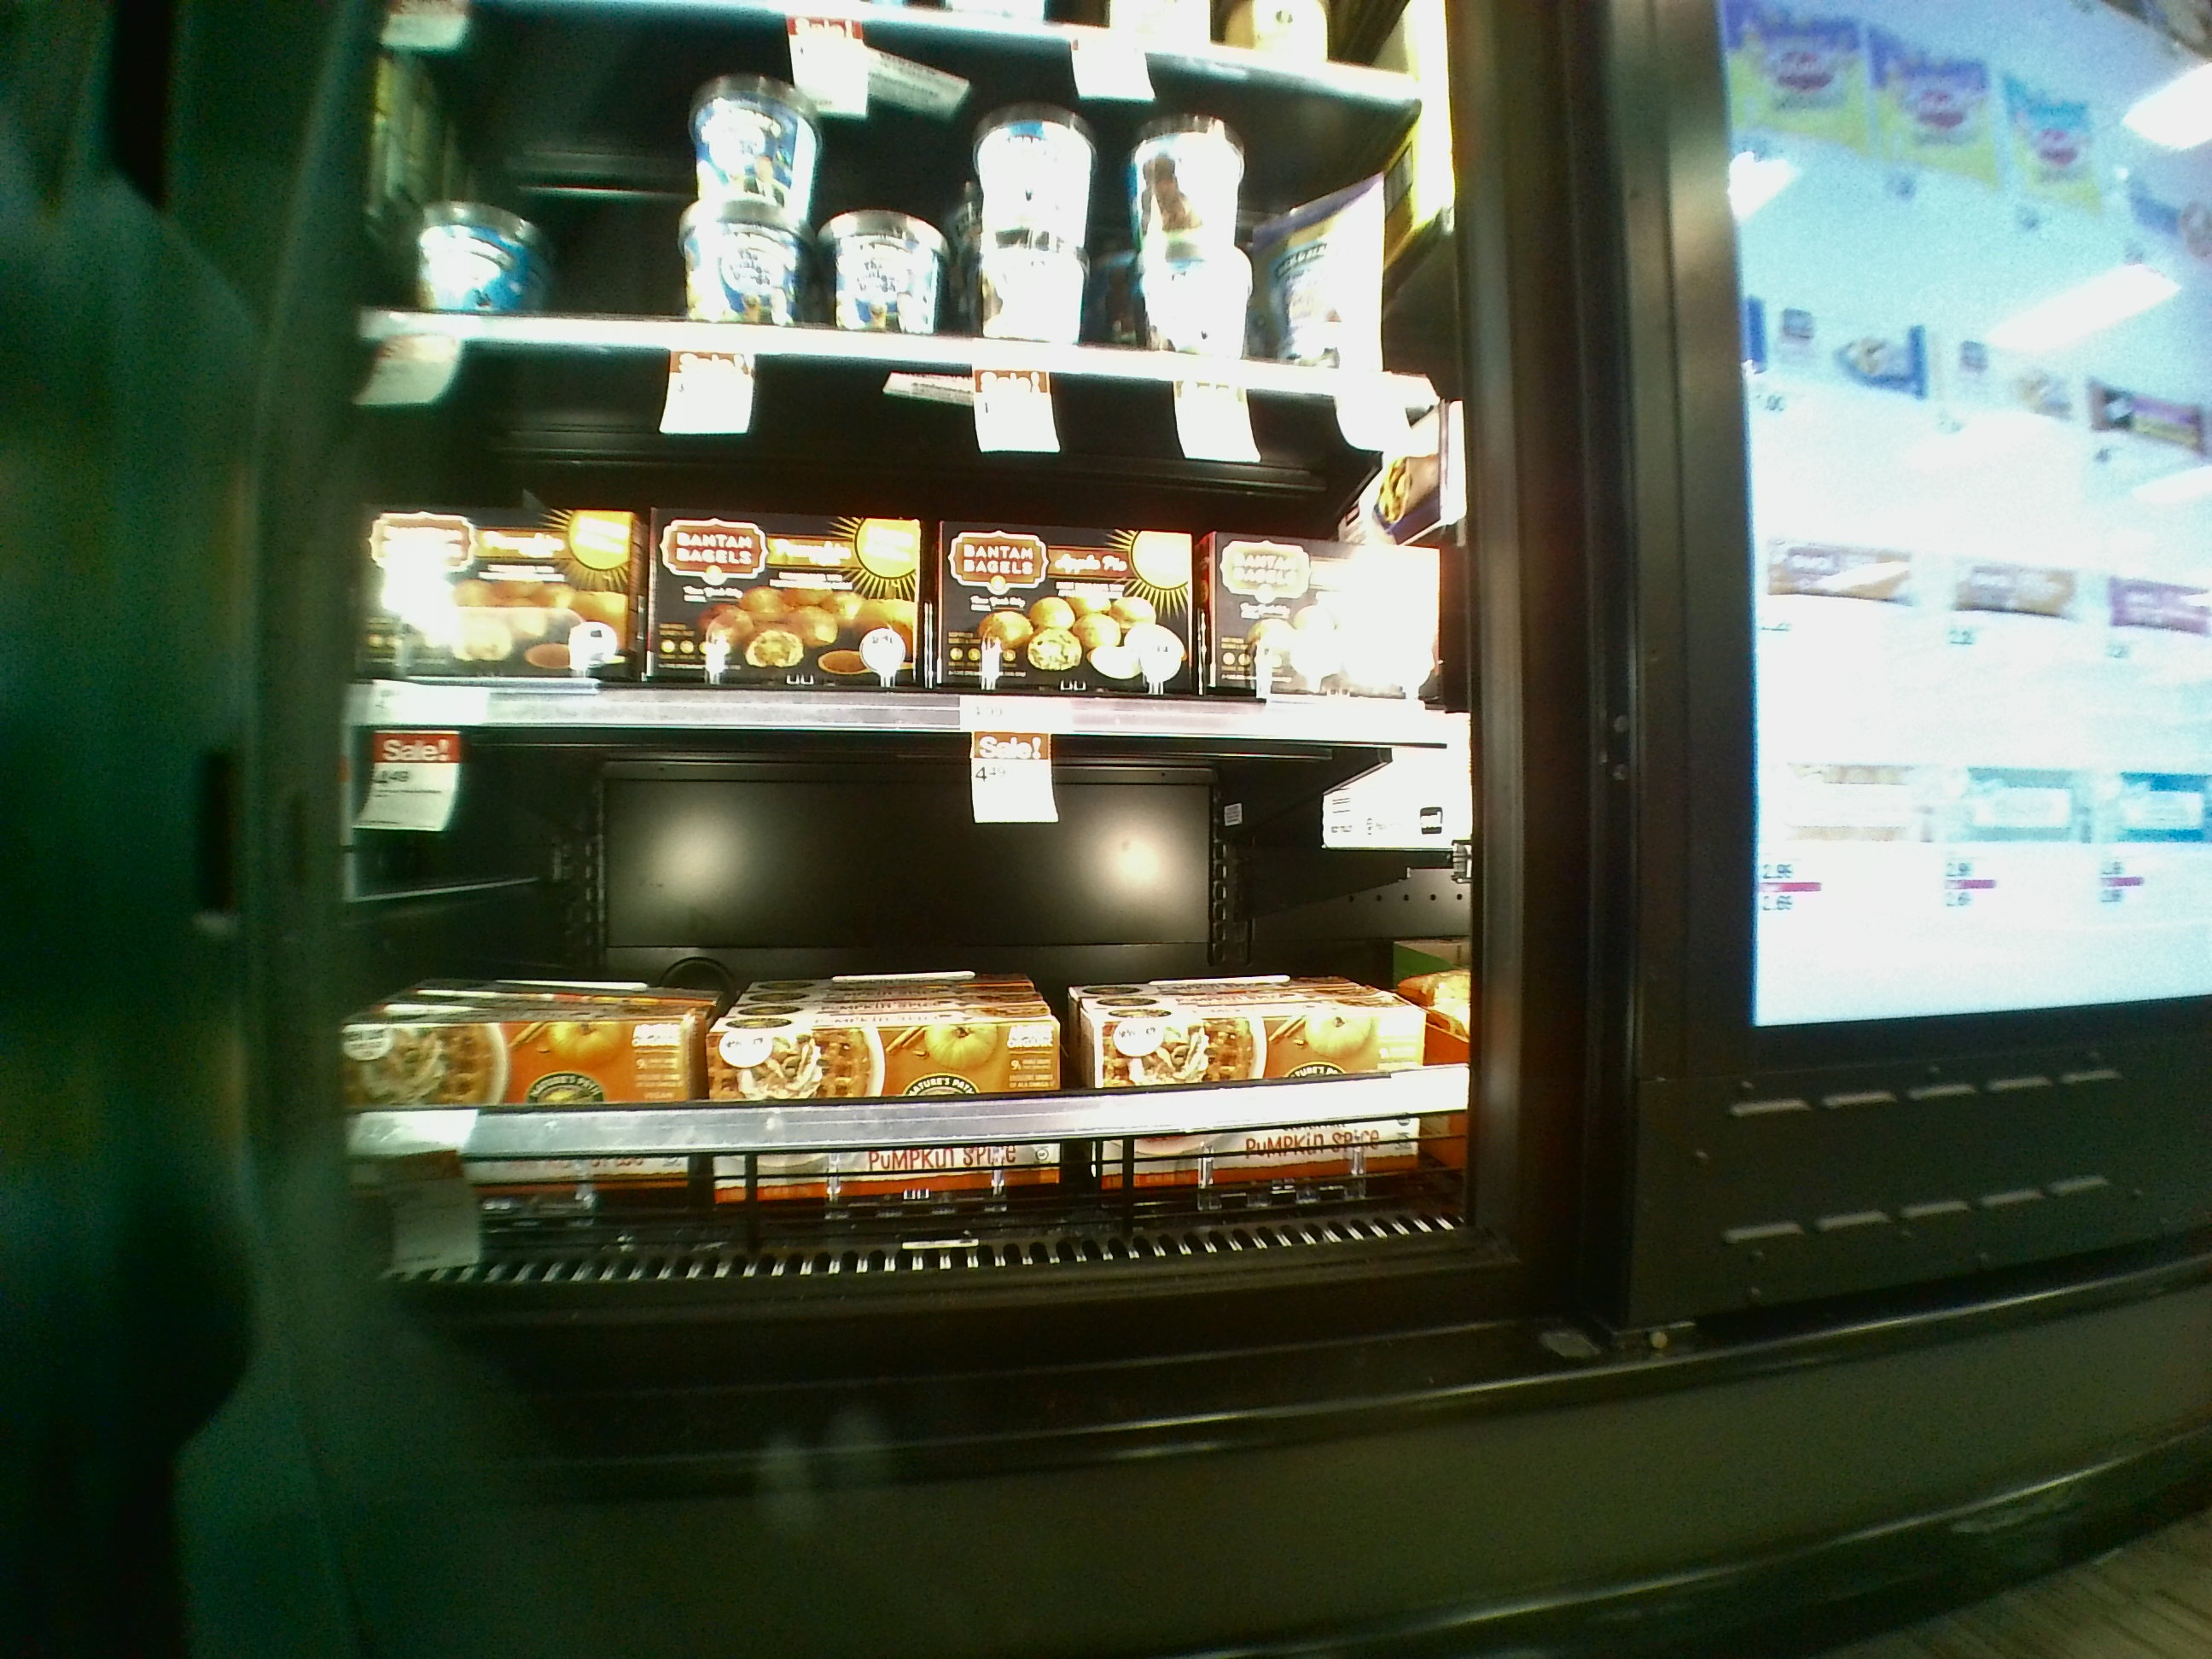shelf: (301, 730, 1493, 1272), (319, 336, 1498, 760)
